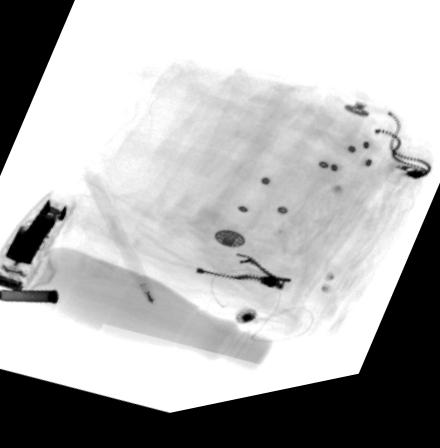Bullet: (0, 289, 60, 306)
